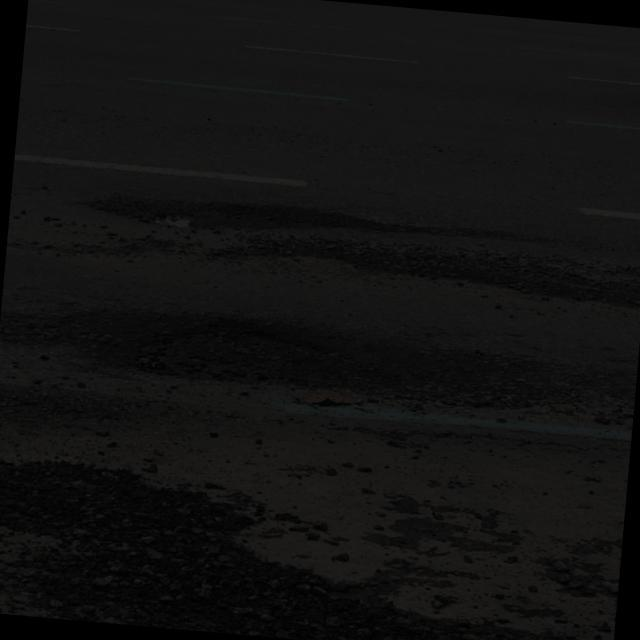pothole: (61, 271, 570, 437)
